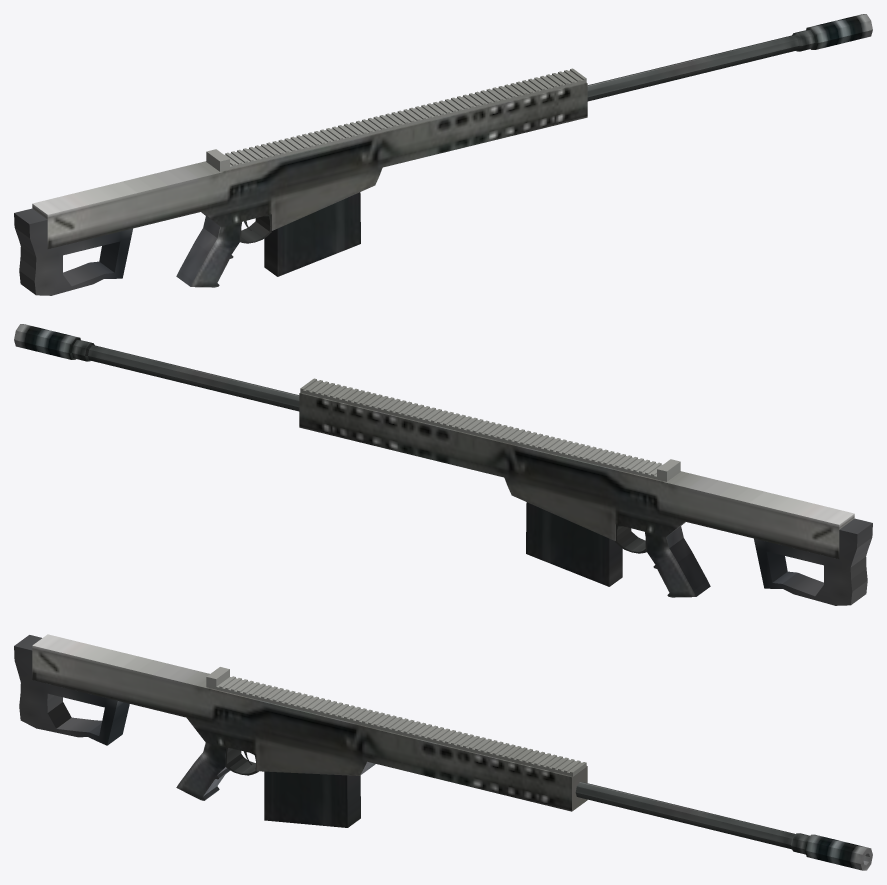
The model's file is barret.glb.
3 views of the same model, one above another, from view 1: azimuth 30°, elevation 25°; view 2: azimuth 150°, elevation 25°; view 3: azimuth 330°, elevation 25° (orthographic).
Size of the model in its own units: 416 by 60.99 by 13.2.
Materials: 1 (1 with a texture image).
